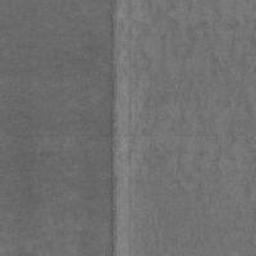Welding line: (106, 0, 119, 256)
